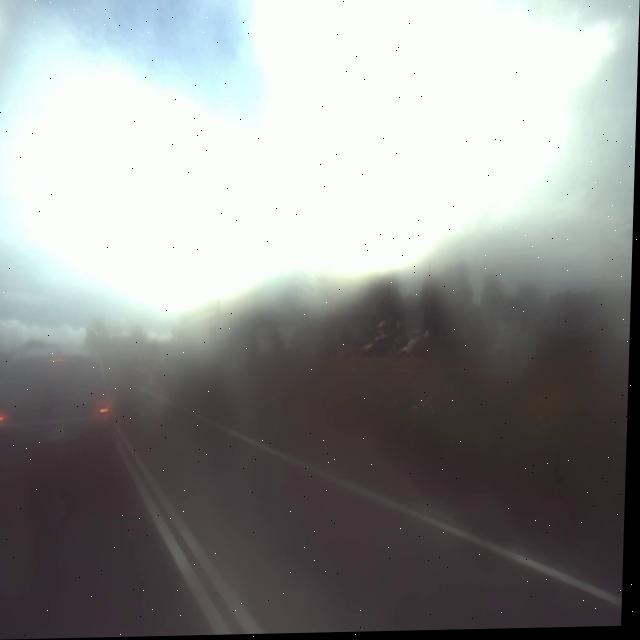car: (0, 337, 120, 507)
